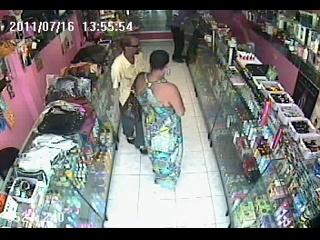Normal: (132, 49, 186, 189), (110, 36, 147, 154), (171, 11, 200, 64)
